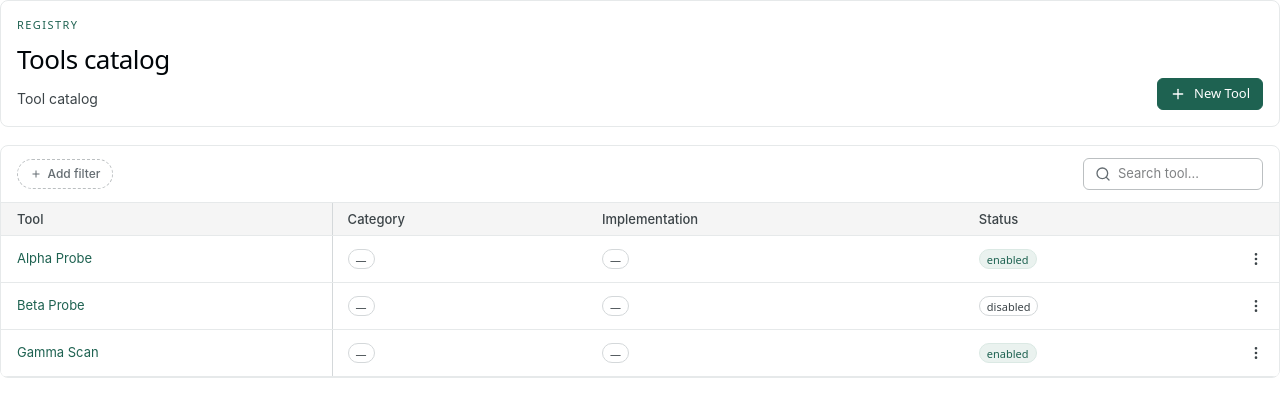
it: RegistryCatalogSurface › explains an empty result instead of leaving a bare table
Expected: the link "Alpha Probe" is shown, [17,250,92,266]
Type "no row carries this" into the search field named "Search tool entries" at point(1184, 174), box [1118,164,1251,184]
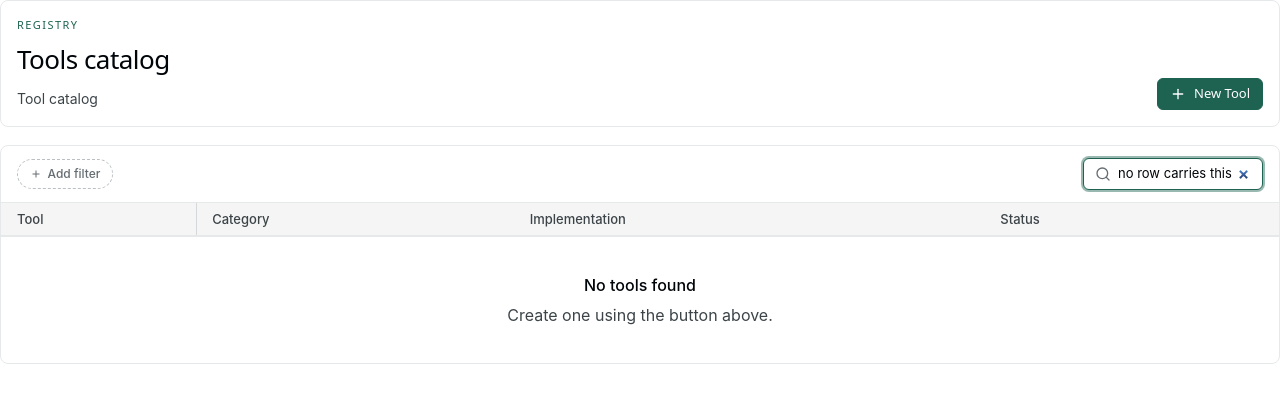
Expected: the element with test id "tools-grid" is shown, [507,275,773,325]
Expected: the link "Alpha Probe" is gone
